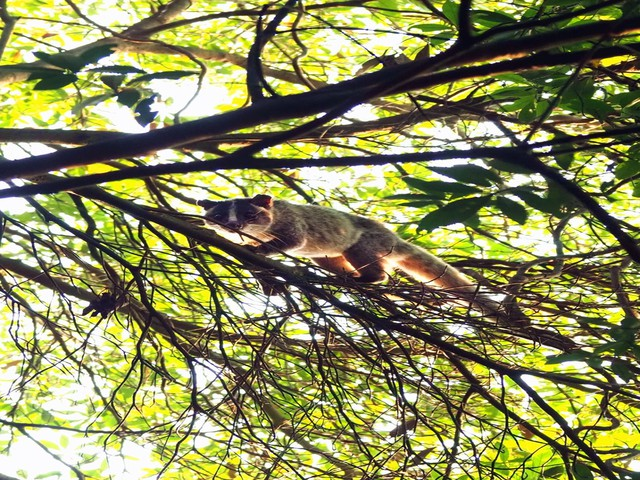civet: (193, 193, 501, 297)
